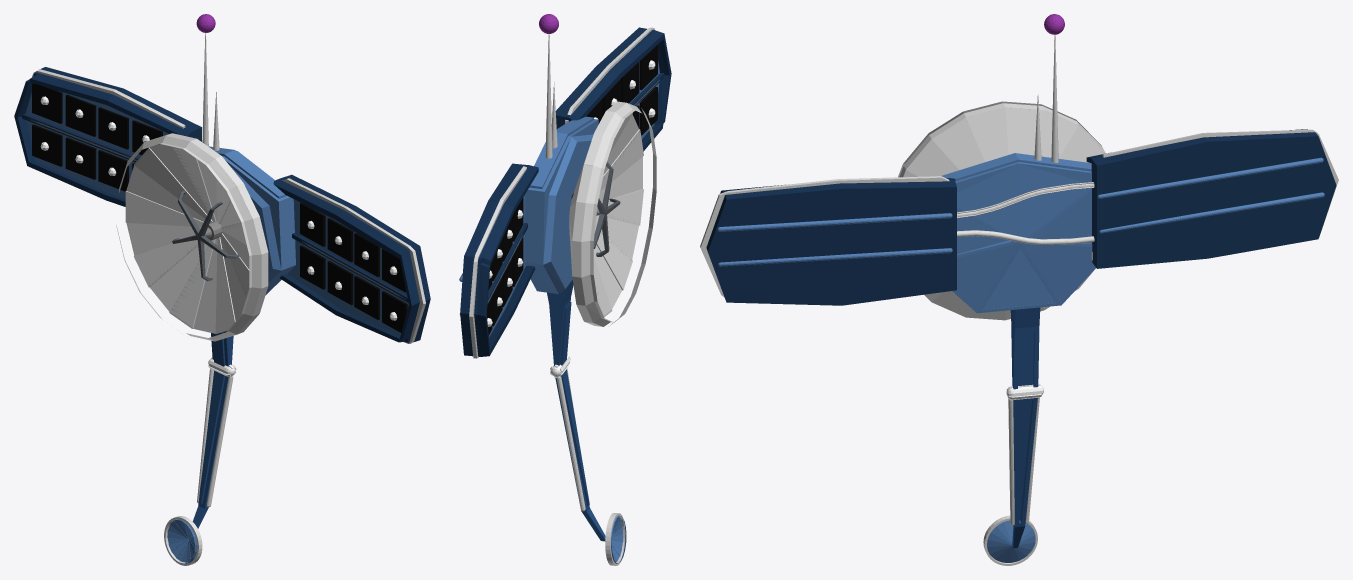
3 renders of one model, left to right at view 1: azimuth 30°, elevation 25°; view 2: azimuth 150°, elevation 25°; view 3: azimuth 270°, elevation 25°, orthographic. The views are drawn at different scales.
Visible parts, largest first — view 1: Node; view 2: Node; view 3: Node.
Part boxes in pixels (x1,y1,x2,y2): Node: (14, 14, 430, 565); Node: (459, 14, 671, 565); Node: (700, 14, 1338, 565).
Size of the model in its own units: 287 by 1083 by 1093.
1 material, 1 textured.
